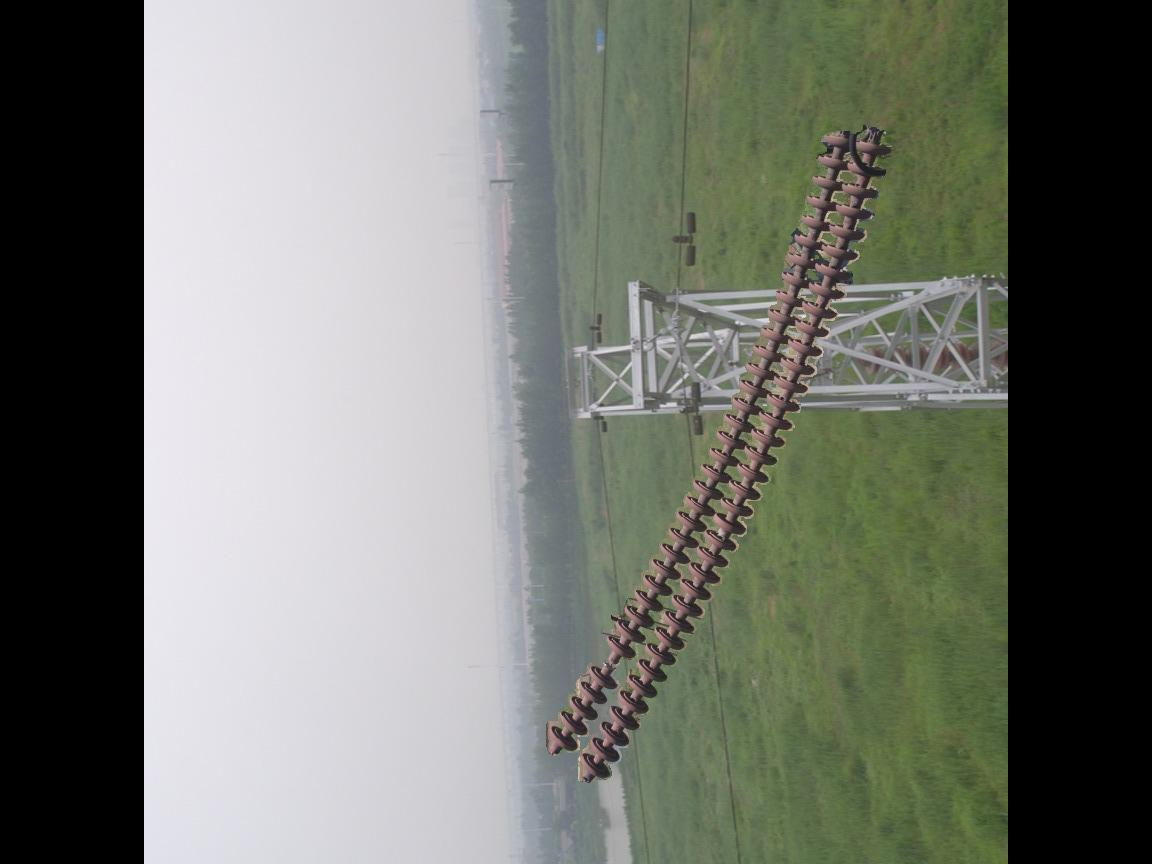insulator: (540, 122, 894, 791)
insulator_stringdrop: (582, 632, 637, 692)
